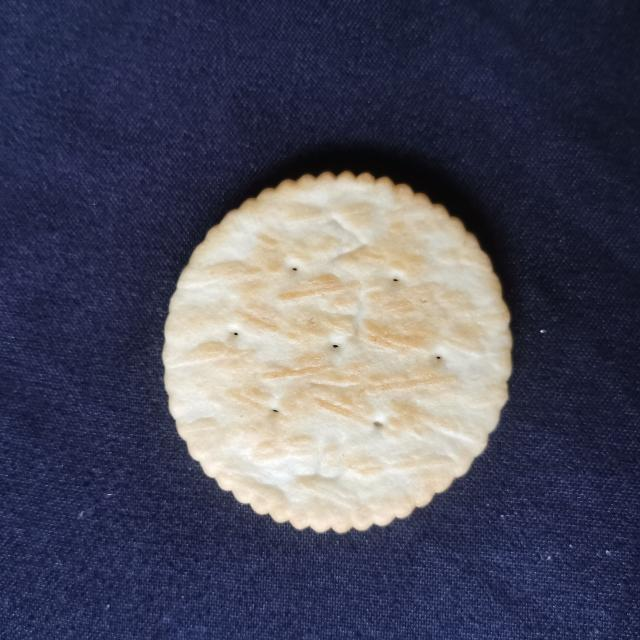Intact: (154, 156, 524, 546)
